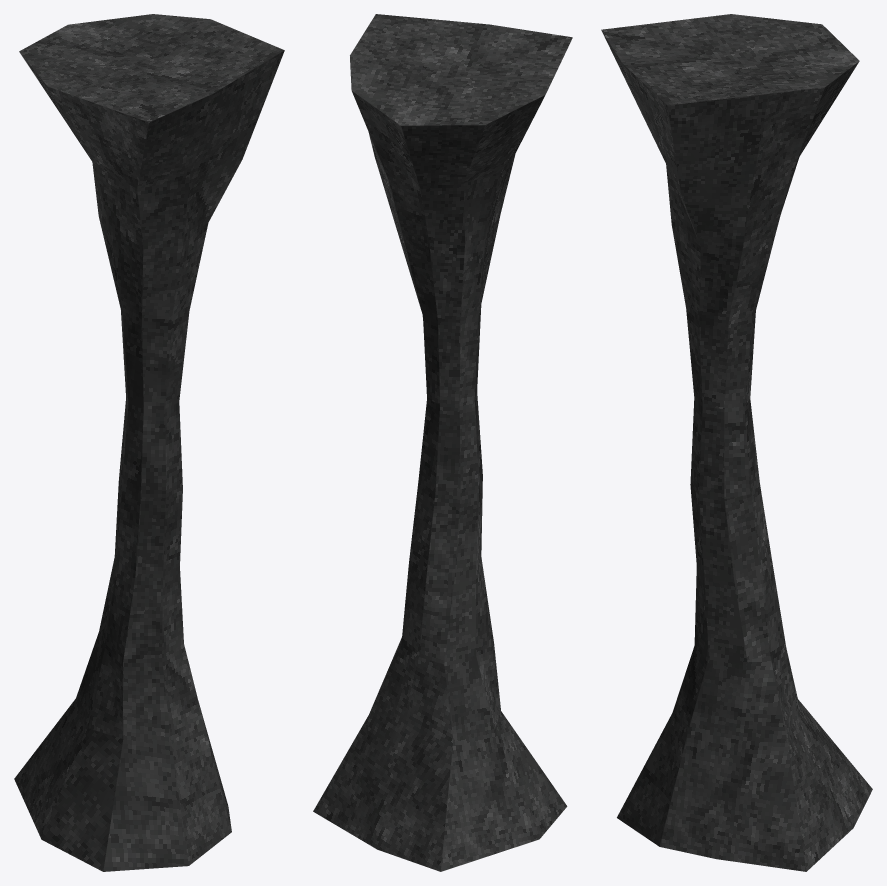
File: CaveStalagmitePillarSmall.glb
The picture shows the model from 3 angles, left to right: view 1: azimuth 30°, elevation 25°; view 2: azimuth 150°, elevation 25°; view 3: azimuth 270°, elevation 25°; orthographic projection. The views are drawn at different scales.
Parts seen in each view (by area): view 1: Cylinder.018; view 2: Cylinder.018; view 3: Cylinder.018.
Boxes of the visible parts, bbox=[...] form: Cylinder.018: bbox=[14, 14, 284, 871]; Cylinder.018: bbox=[313, 14, 572, 871]; Cylinder.018: bbox=[601, 14, 872, 871].
Size of the model in its own units: 1.78 by 6.38 by 2.03.
1 material, 1 textured.
